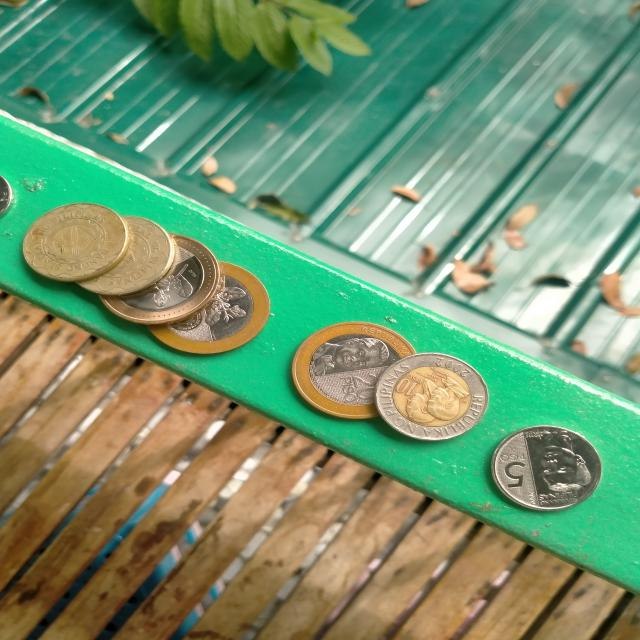10_Old_Front: (379, 352, 492, 440)
5_New_Front: (496, 450, 544, 494)
